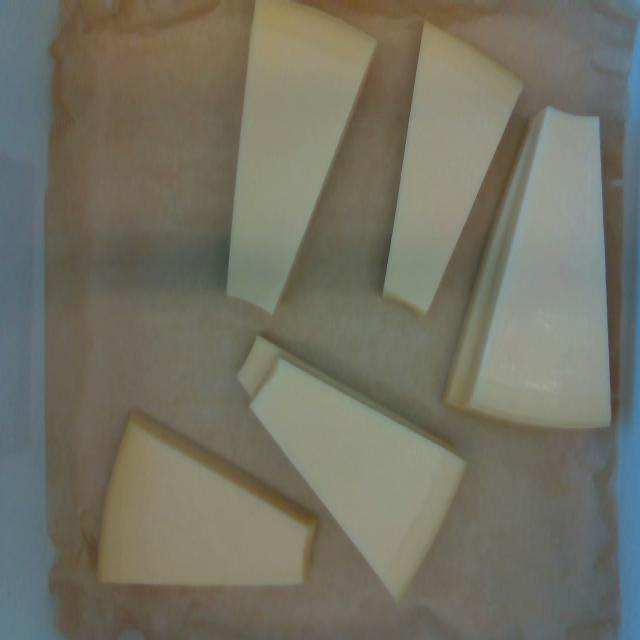Cheese: (249, 358, 465, 596), (228, 0, 373, 311), (469, 109, 608, 428), (384, 25, 518, 312), (100, 419, 314, 584)
